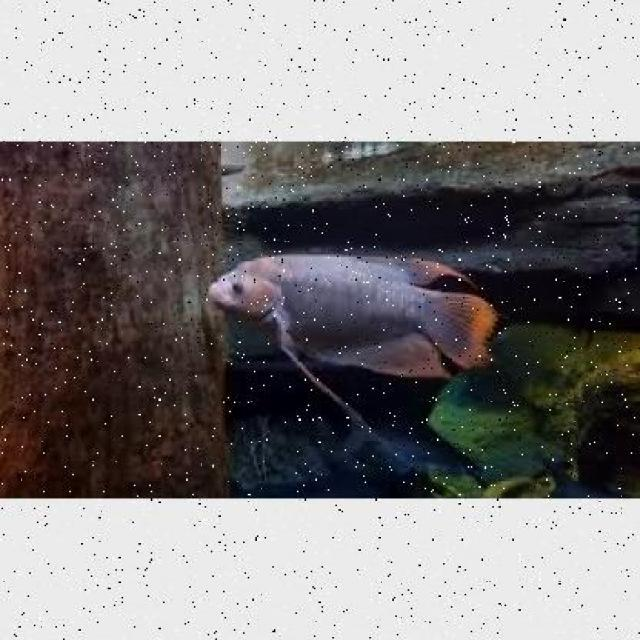gurame: (204, 239, 504, 404)
